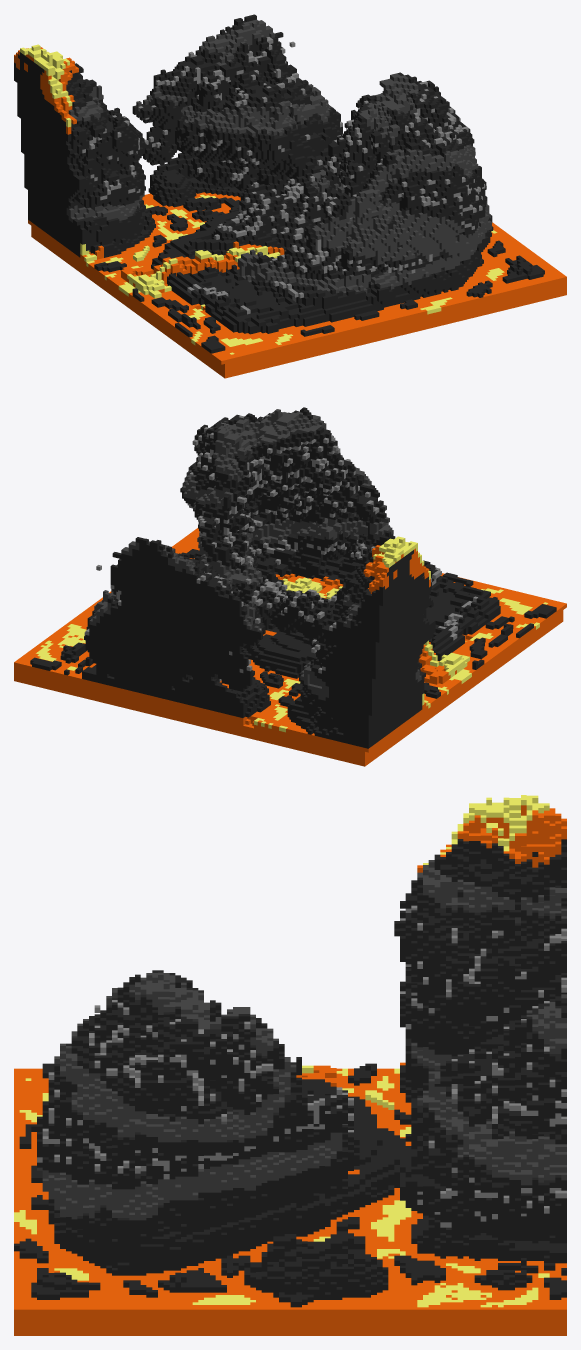
File: Lava_stuff-33.obj
The picture shows the model from 3 angles, top to bottom: view 1: azimuth 30°, elevation 25°; view 2: azimuth 150°, elevation 25°; view 3: azimuth 270°, elevation 25°; orthographic projection. The views are drawn at different scales.
Bounding box in the file's own units: 20.8 × 11.2 × 19.2.
1 material, 1 textured.
